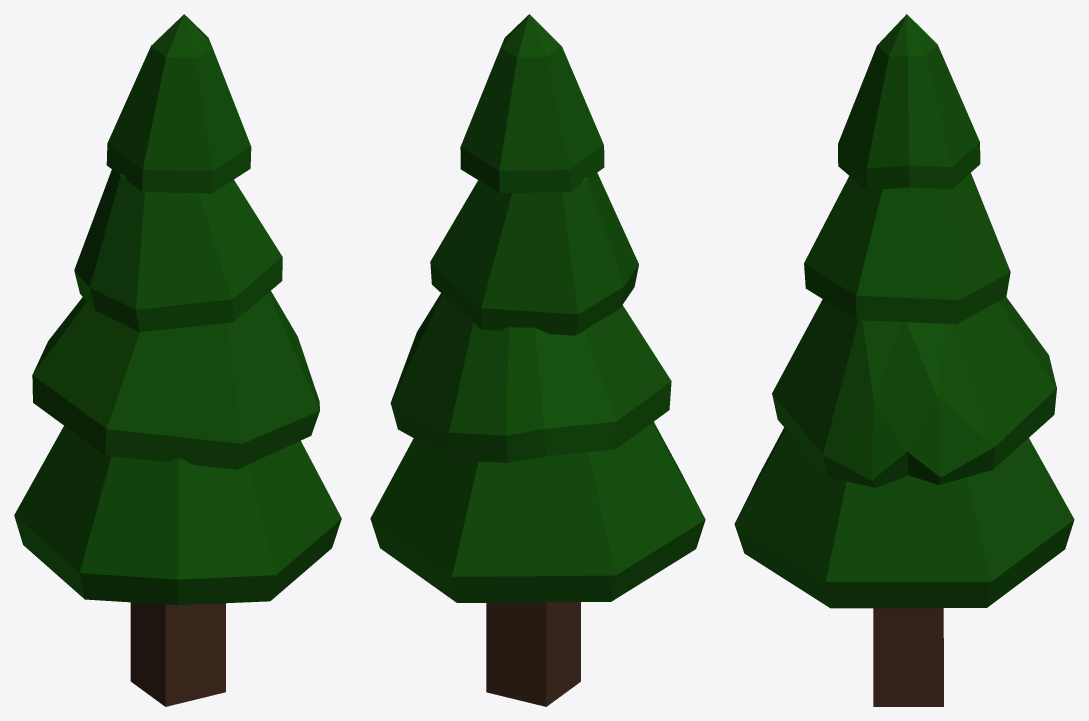
The model's file is tree2.glb.
3 renders of one model, left to right at view 1: azimuth 30°, elevation 25°; view 2: azimuth 150°, elevation 25°; view 3: azimuth 270°, elevation 25°, orthographic.
Visible parts, largest first — view 1: Cylinder, Cube.001; view 2: Cylinder, Cube.001; view 3: Cylinder, Cube.001.
Boxes of the visible parts, left/top/right/bottom form: Cylinder: left=14, top=14, right=341, bottom=605; Cube.001: left=130, top=602, right=225, bottom=706; Cylinder: left=370, top=14, right=705, bottom=602; Cube.001: left=486, top=602, right=580, bottom=706; Cylinder: left=734, top=14, right=1074, bottom=608; Cube.001: left=873, top=608, right=943, bottom=706.
Size of the model in its own units: 1.34 by 3.33 by 1.51.
